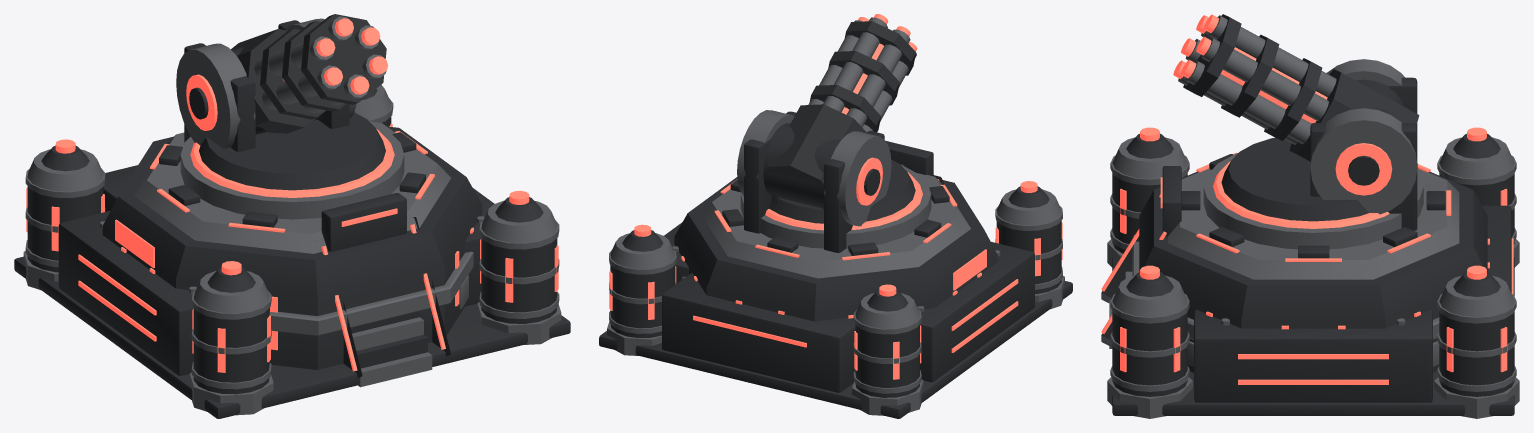
The model's file is sb_bunker_t1.glb.
3 views of the same model, side by side, from view 1: azimuth 30°, elevation 25°; view 2: azimuth 150°, elevation 25°; view 3: azimuth 270°, elevation 25° (orthographic). The views are drawn at different scales.
Parts seen in each view (by area): view 1: SM_BK_BODY, SM_BK_TURRET, SM_BK_LIGHTS, SM_BK_TURRET_LIGHTS; view 2: SM_BK_BODY, SM_BK_TURRET, SM_BK_LIGHTS, SM_BK_TURRET_LIGHTS; view 3: SM_BK_BODY, SM_BK_TURRET, SM_BK_LIGHTS, SM_BK_TURRET_LIGHTS.
Boxes of the visible parts, x1,y1,x2,y2 form: SM_BK_BODY: (14,84,570,418); SM_BK_TURRET: (176,14,386,190); SM_BK_LIGHTS: (26,124,558,372); SM_BK_TURRET_LIGHTS: (186,18,387,130); SM_BK_BODY: (599,141,1072,418); SM_BK_TURRET: (737,17,916,252); SM_BK_LIGHTS: (609,172,1062,379); SM_BK_TURRET_LIGHTS: (841,14,917,205); SM_BK_BODY: (1101,133,1519,418); SM_BK_TURRET: (1178,14,1419,230); SM_BK_LIGHTS: (1101,127,1513,384); SM_BK_TURRET_LIGHTS: (1173,14,1392,195).
Bounding box in the file's own units: 30.18 × 26.4 × 30.63.
